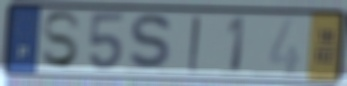1: (224, 13, 247, 75)
4: (267, 16, 303, 77)
5: (88, 11, 128, 73)
I: (186, 14, 202, 74)
S: (126, 12, 177, 74), (39, 10, 85, 71)
